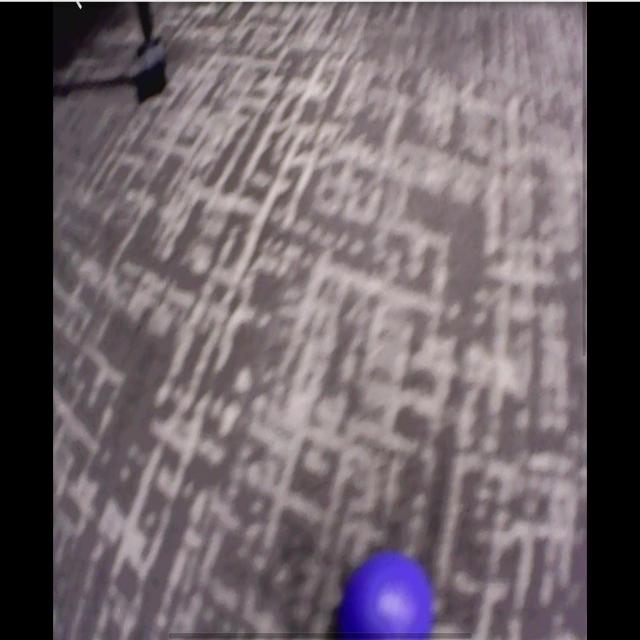ball: (340, 555, 435, 640)
